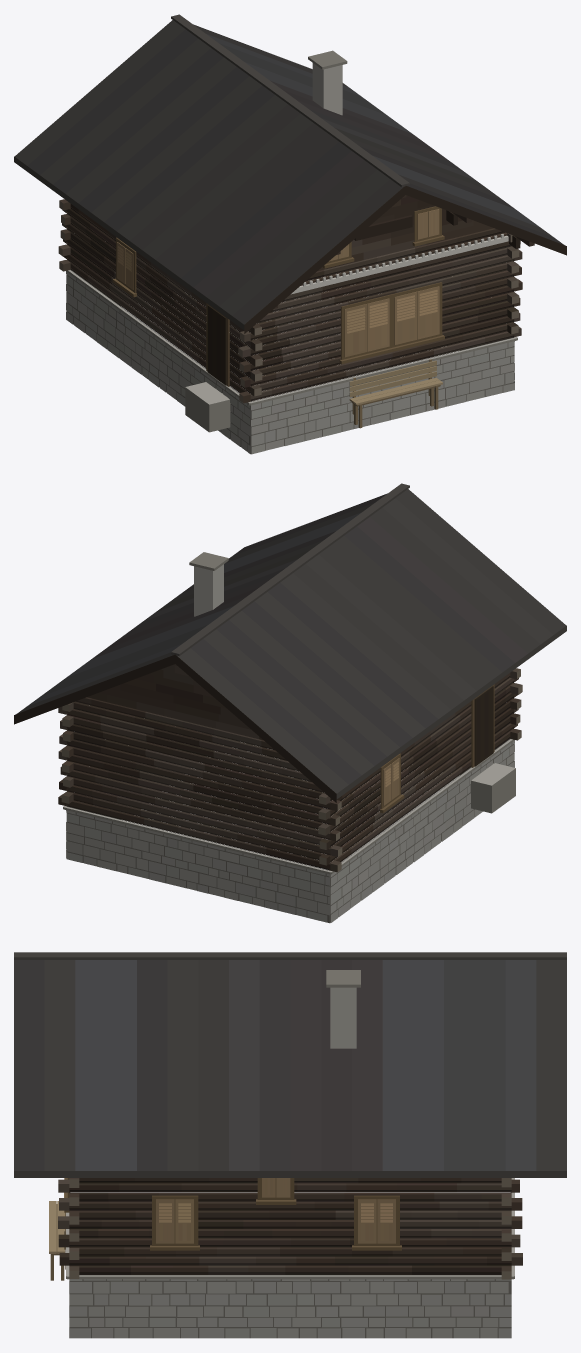
The model's file is chalet.glb.
3 renders of one model, top to bottom at view 1: azimuth 30°, elevation 25°; view 2: azimuth 150°, elevation 25°; view 3: azimuth 270°, elevation 25°, orthographic. The views are drawn at different scales.
Visible parts, largest first — view 1: chalet; view 2: chalet; view 3: chalet.
Part boxes in pixels (box(x1,y1,x2,y2)): chalet: box(14, 14, 566, 454); chalet: box(14, 483, 566, 923); chalet: box(14, 952, 566, 1338).
Size of the model in its own units: 9.3 by 7.31 by 11.5.
